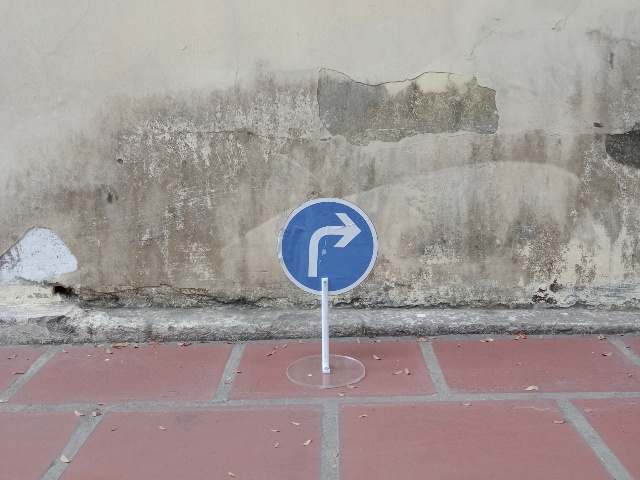Right_Sign: (278, 196, 379, 296)
